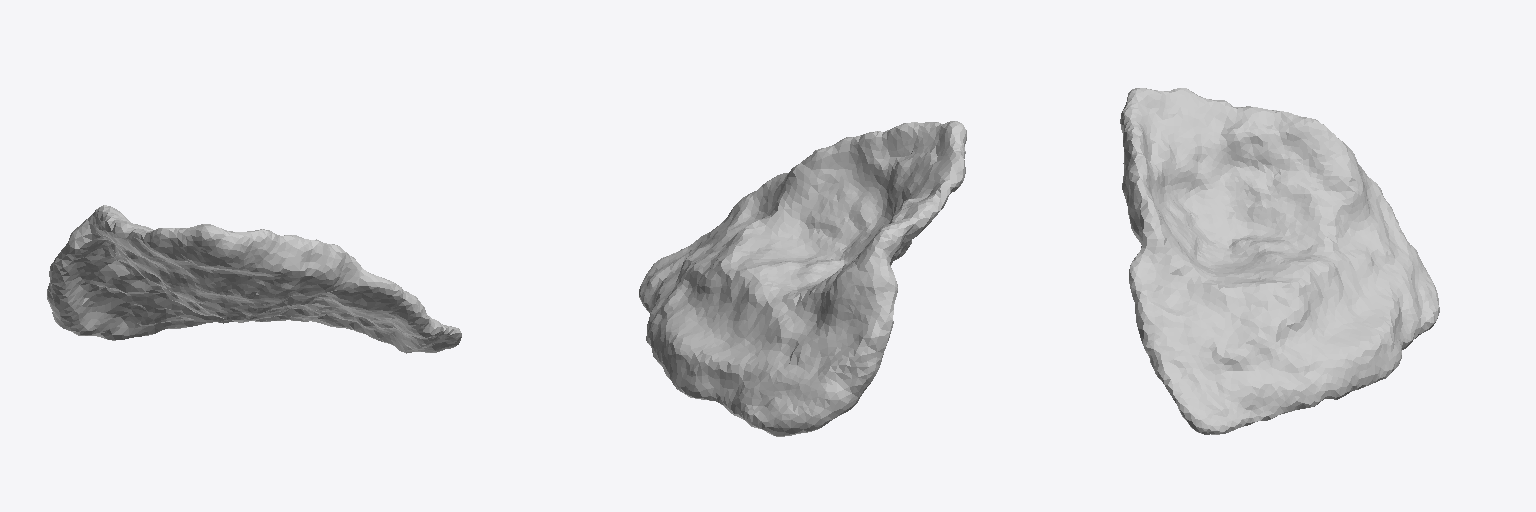
Rendered from Platform 1.obj.
The picture shows the model from 3 angles: view 1: azimuth 30°, elevation 25°; view 2: azimuth 150°, elevation 25°; view 3: azimuth 270°, elevation 25°; orthographic projection.
Visible parts, largest first — view 1: Icosphere; view 2: Icosphere; view 3: Icosphere.
Boxes of the visible parts, x1,y1,x2,y2 form: Icosphere: [47, 205, 461, 353]; Icosphere: [639, 121, 966, 436]; Icosphere: [1120, 88, 1439, 434].
Bounding box in the file's own units: 17.57 × 11.35 × 14.91.